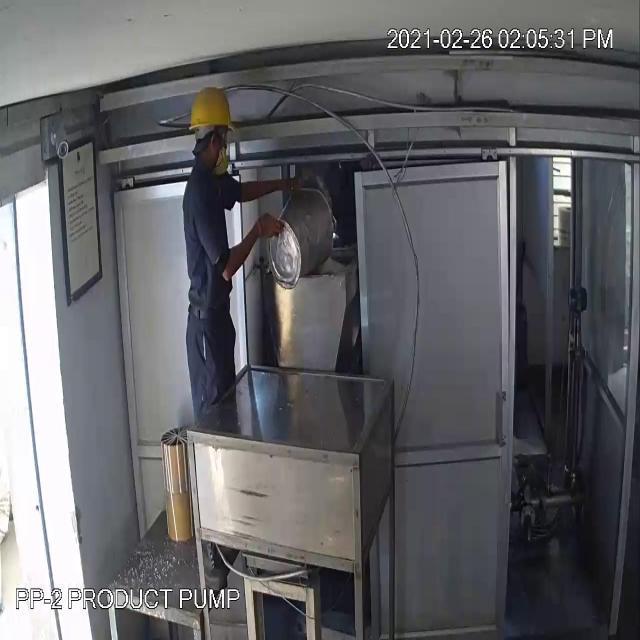helmet: (183, 78, 245, 145)
